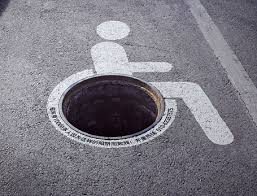Manhole-Open: (44, 69, 177, 142)
